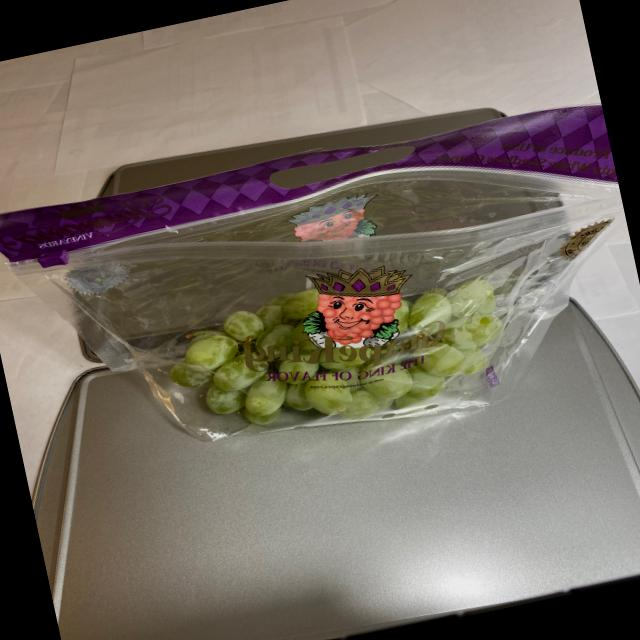grapes: (156, 248, 540, 454)
